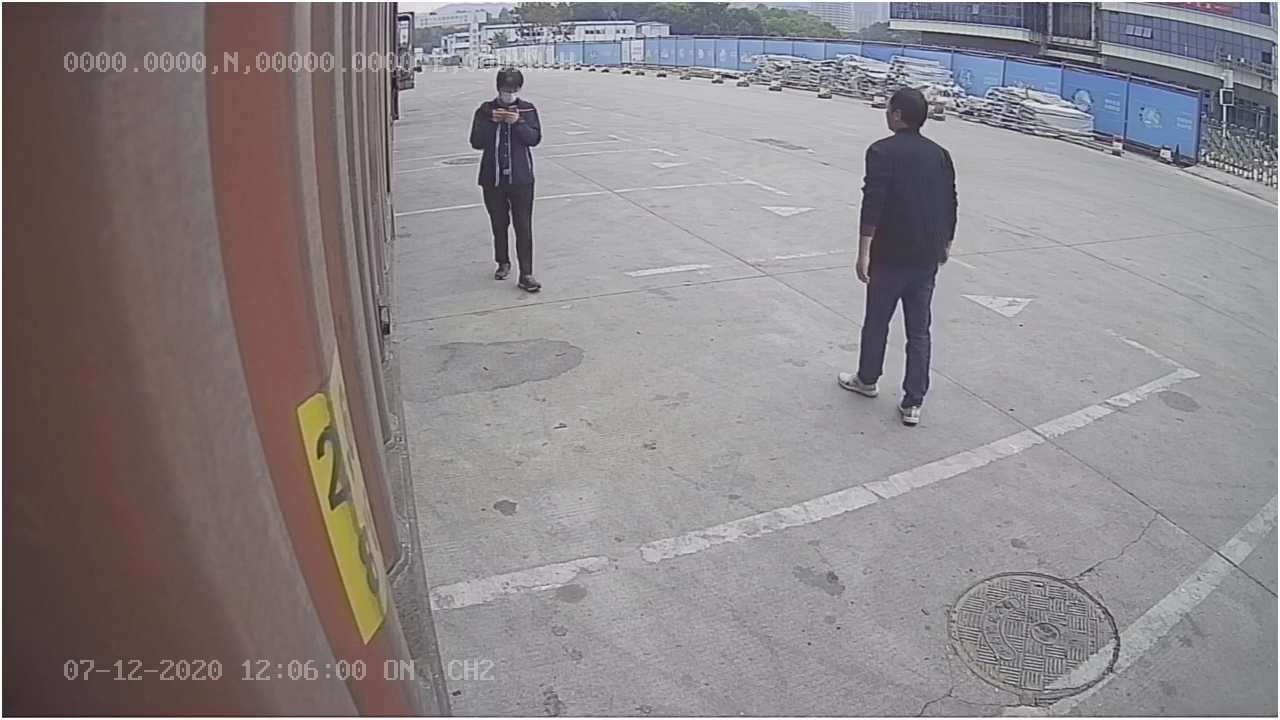person: (836, 84, 962, 424)
